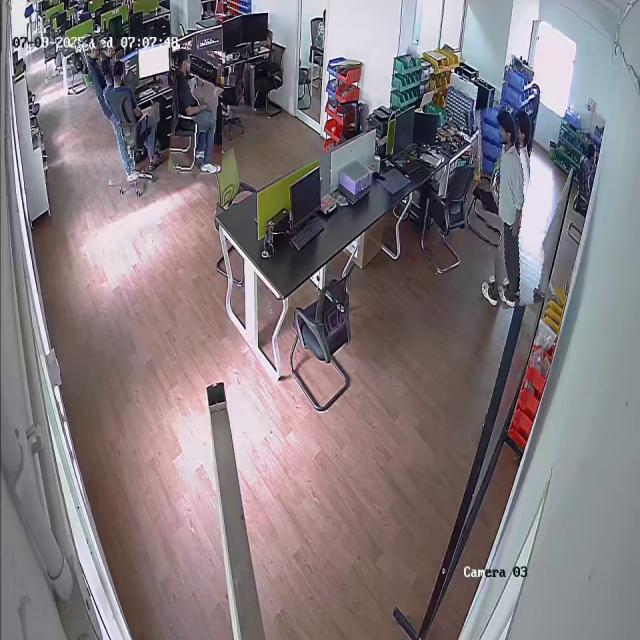person: (474, 104, 544, 308), (83, 35, 129, 188), (170, 50, 224, 174)
